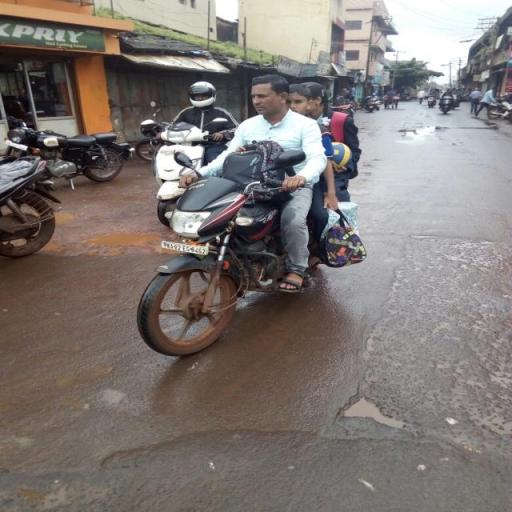tripple riding: (224, 76, 370, 188)
